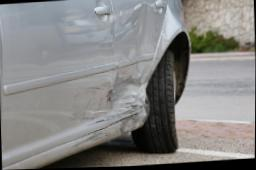Door: (95, 50, 153, 132)
